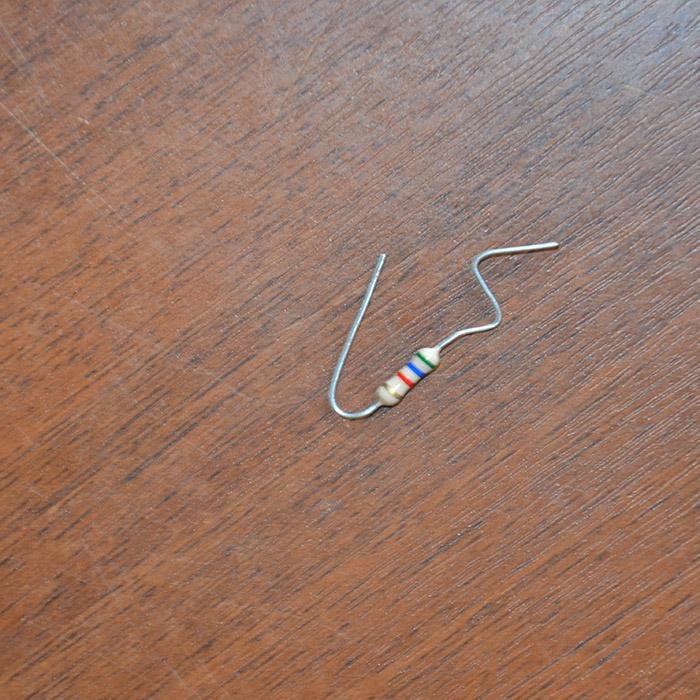resistor: (377, 344, 440, 406)
